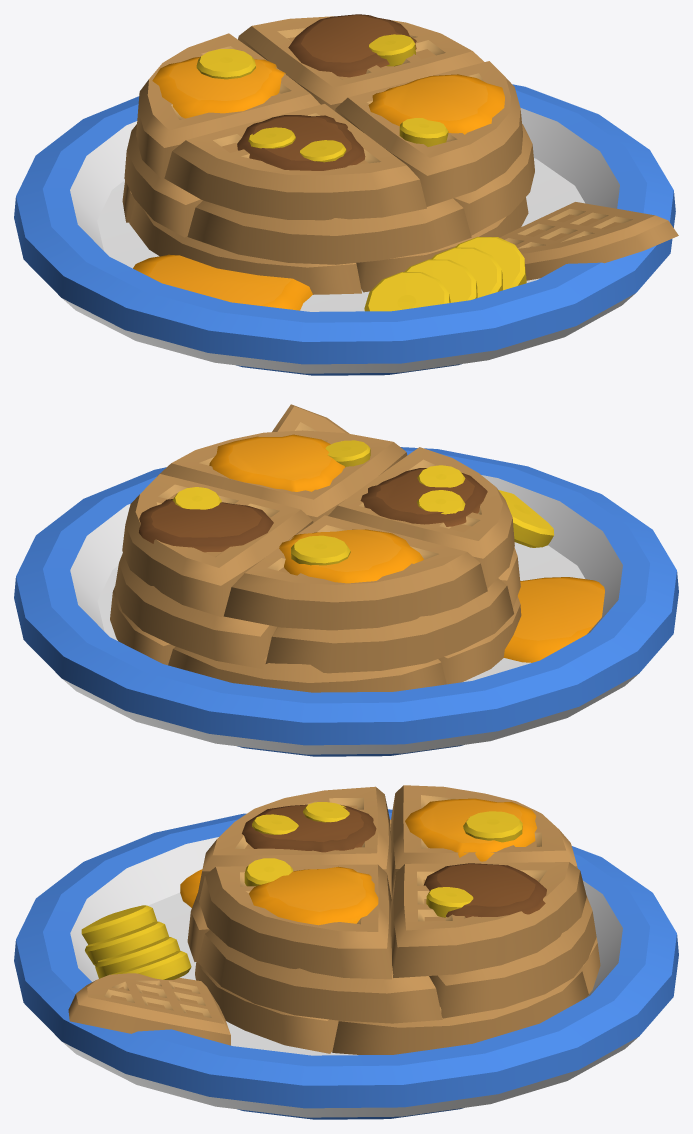
The model's file is Dish_6_LV6.glb.
The picture shows the model from 3 angles, top to bottom: view 1: azimuth 30°, elevation 25°; view 2: azimuth 150°, elevation 25°; view 3: azimuth 270°, elevation 25°; orthographic projection.
Visible parts, largest first — view 1: Dish_6_LV6; view 2: Dish_6_LV6; view 3: Dish_6_LV6.
Boxes of the visible parts, box(x1,y1,x2,y2) form: Dish_6_LV6: box(14, 14, 678, 375); Dish_6_LV6: box(14, 404, 678, 756); Dish_6_LV6: box(14, 785, 678, 1119).
Size of the model in its own units: 0.4347 by 0.123 by 0.4352.
2 materials, 2 textured.
